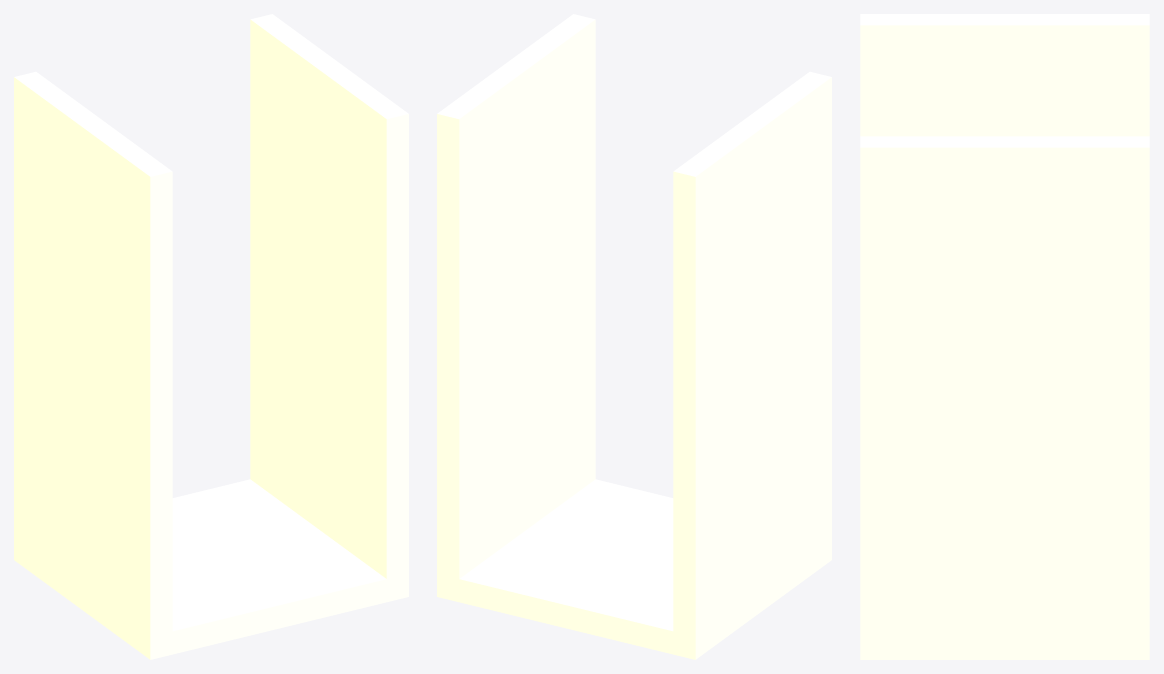
File: plinko_hit.glb
3 renders of one model, left to right at view 1: azimuth 30°, elevation 25°; view 2: azimuth 150°, elevation 25°; view 3: azimuth 270°, elevation 25°, orthographic. The views are drawn at different scales.
Parts seen in each view (by area): view 1: HitSide (×2), HitFloor; view 2: HitSide (×2), HitFloor; view 3: HitSide (×2), HitFloor.
Boxes of the visible parts, x1,y1,x2,y2 form: HitSide (×2): (14,14,408,648); HitFloor: (14,479,408,659); HitSide (×2): (437,14,831,648); HitFloor: (437,479,831,659); HitSide (×2): (860,14,1149,647); HitFloor: (860,635,1149,659).
Size of the model in its own units: 0.07 by 0.125 by 0.064.
